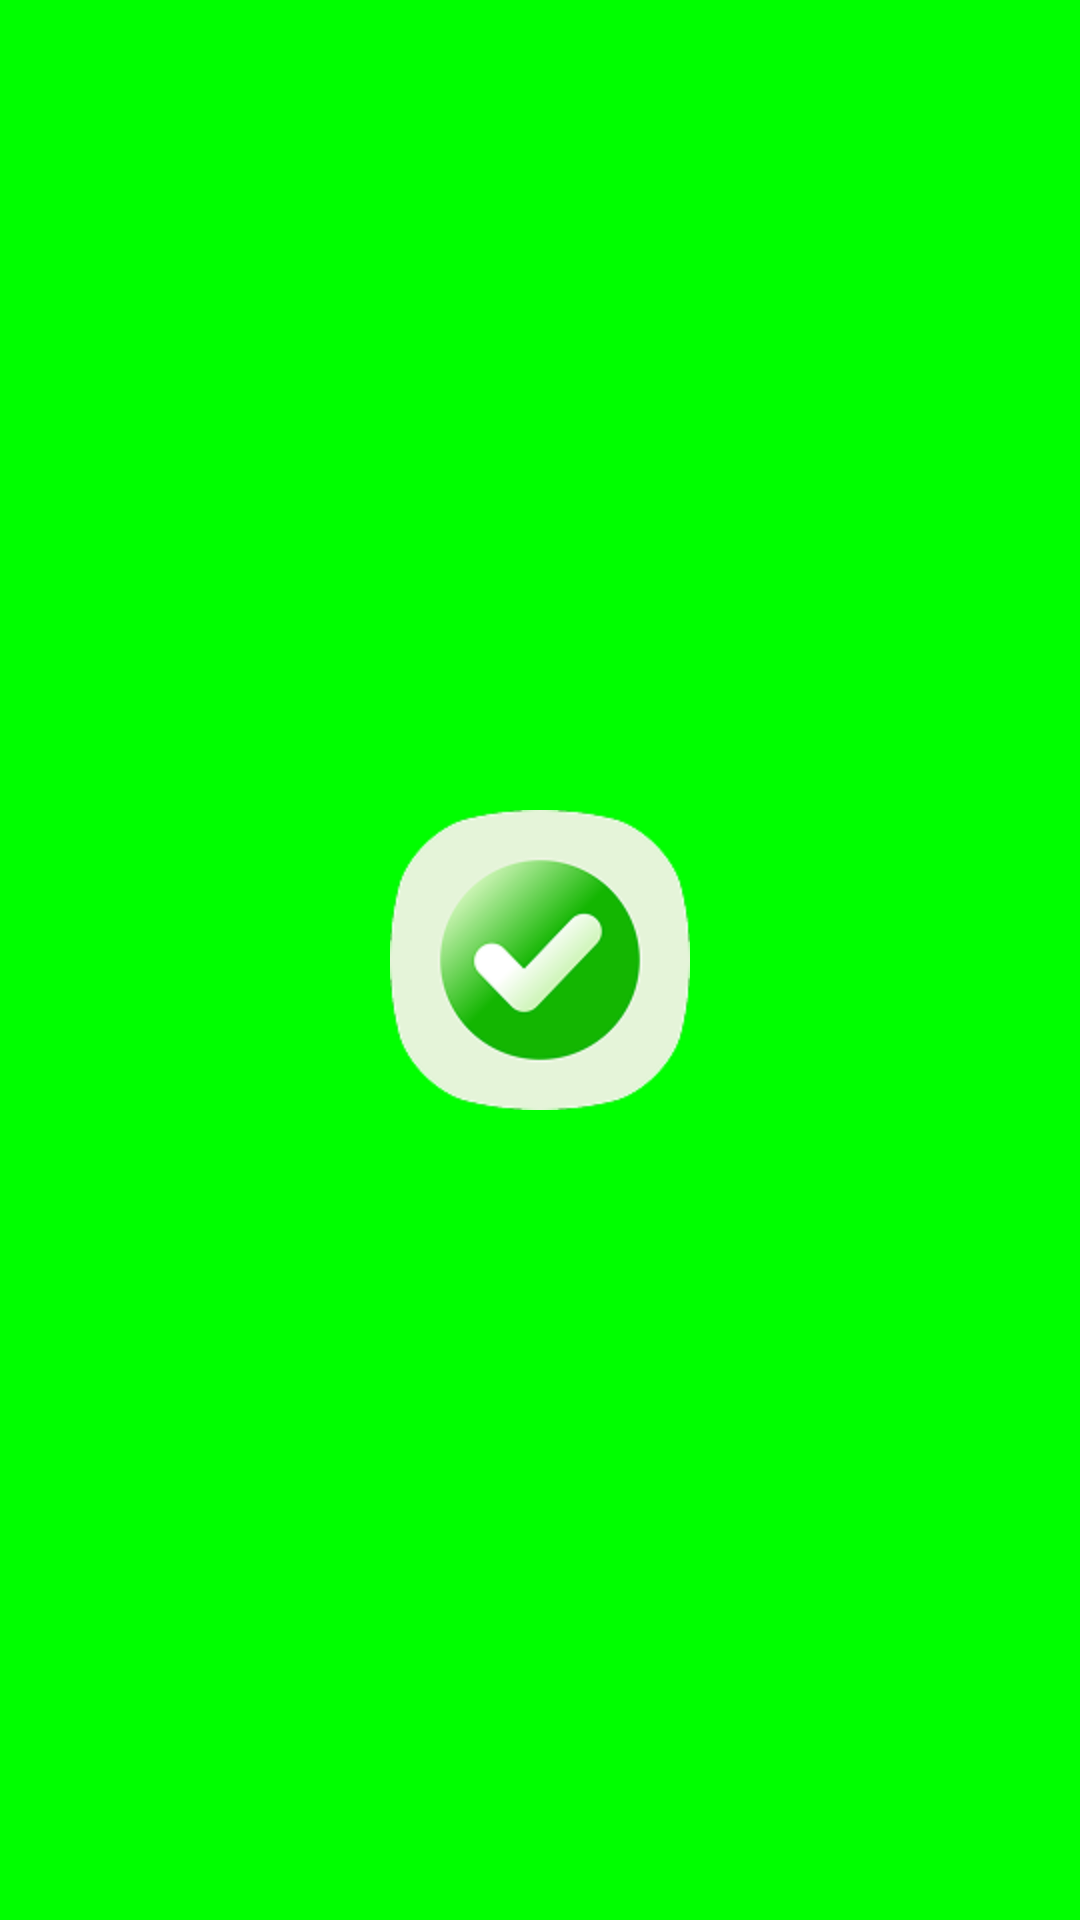

Locate icon controls on the screen. Image size 1080*1920, boxes as (x1, y1, x2, y2).
success: (390, 810, 690, 1110)
